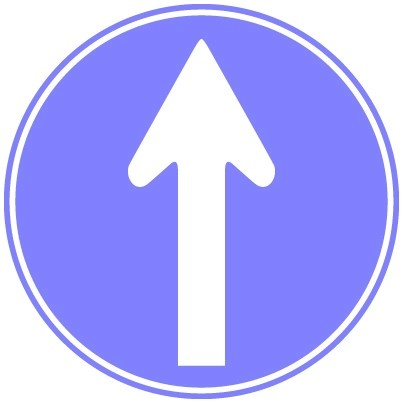Direction_sign: (4, 1, 399, 403)
